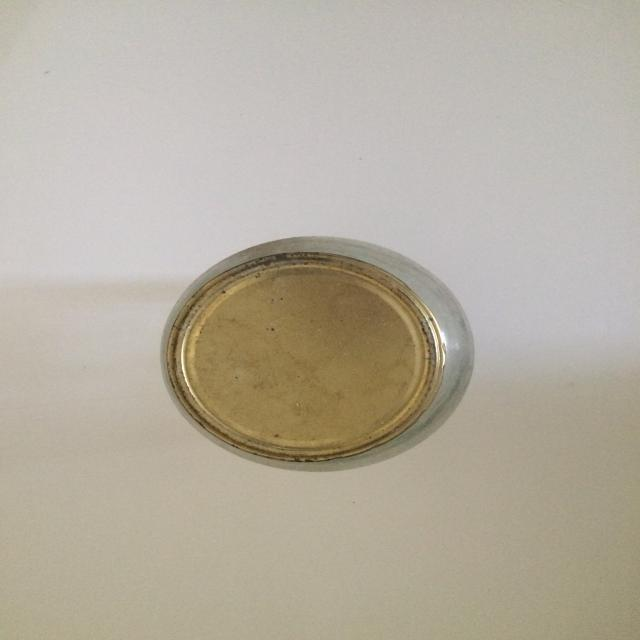glass: (161, 235, 475, 464)
